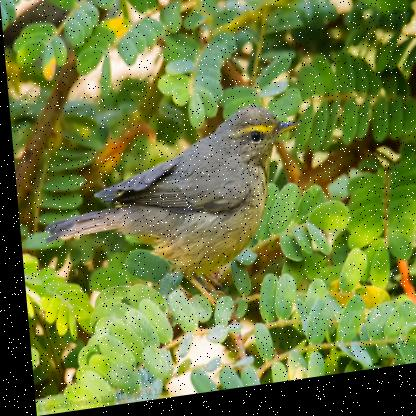Burung: (36, 109, 311, 326)
